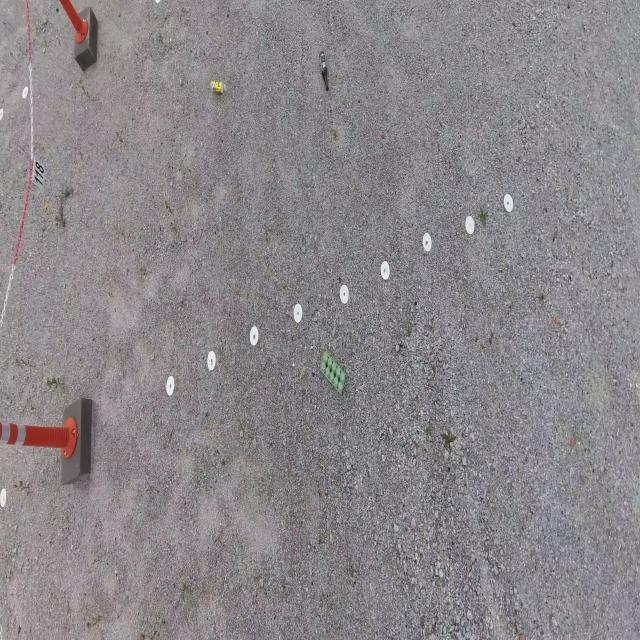rubbish: (320, 352, 345, 395), (318, 51, 329, 92), (210, 81, 228, 94)
